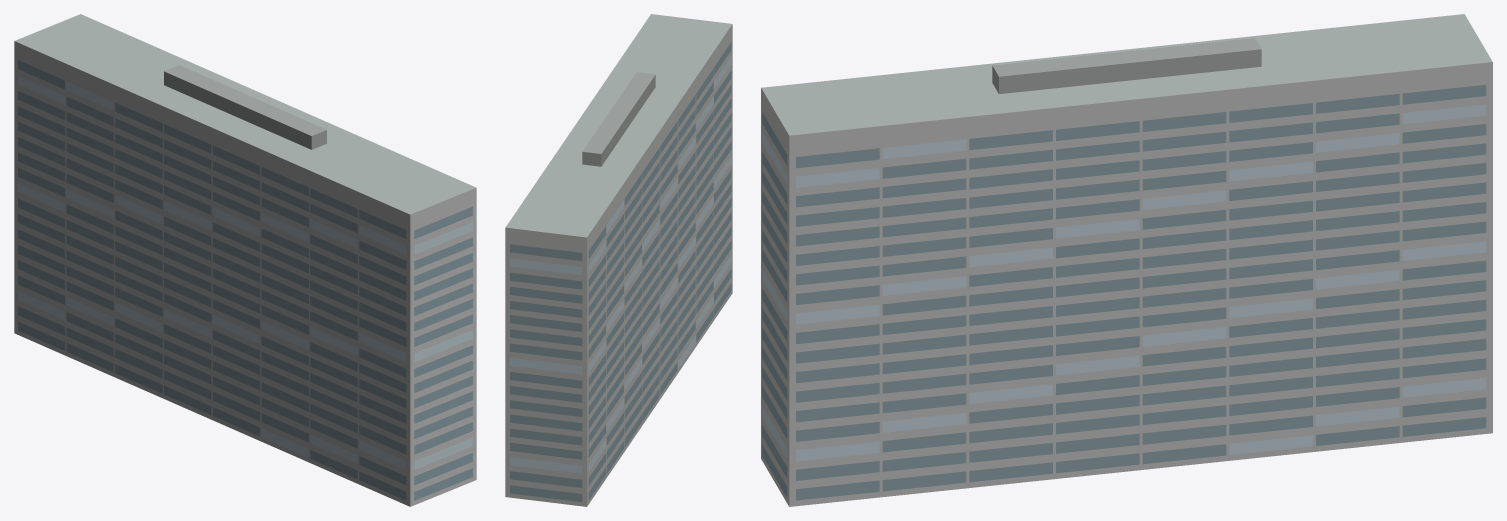
File: apt-a13980706.glb
3 renders of one model, left to right at view 1: azimuth 30°, elevation 25°; view 2: azimuth 150°, elevation 25°; view 3: azimuth 270°, elevation 25°, orthographic. The views are drawn at different scales.
Visible parts, largest first — view 1: apt-a13980706; view 2: apt-a13980706; view 3: apt-a13980706.
Part boxes in pixels (box(x1,y1,x2,y2)): apt-a13980706: box(14, 14, 476, 506); apt-a13980706: box(505, 14, 732, 506); apt-a13980706: box(761, 14, 1492, 506).
Bounding box in the file's own units: 35.59 × 53 × 90.4.
